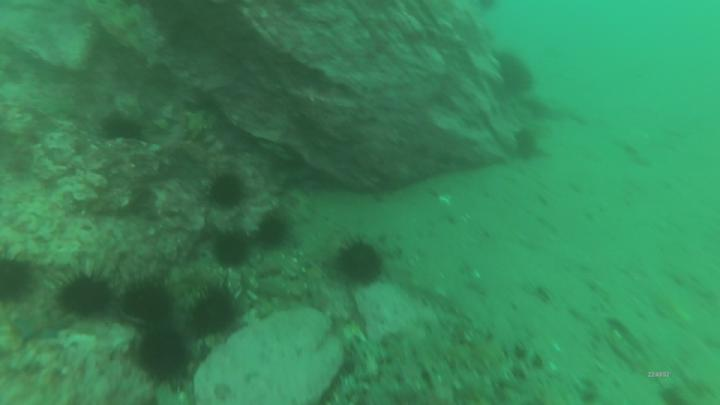echinus: (131, 323, 197, 392), (52, 267, 117, 320), (187, 282, 244, 339), (116, 277, 176, 327), (333, 236, 386, 288), (1, 251, 39, 310), (209, 227, 255, 273), (497, 50, 540, 97), (206, 171, 249, 213), (255, 211, 297, 253), (101, 115, 148, 147), (511, 124, 542, 161)
starfish: (11, 309, 76, 349)
